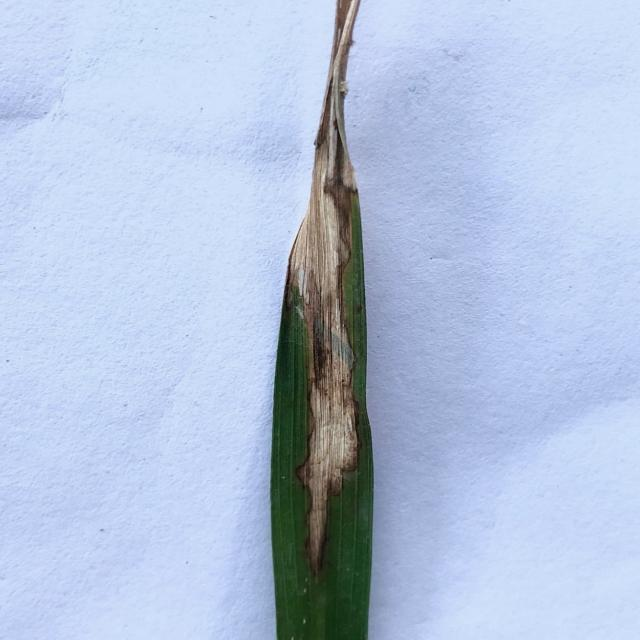leaf blight: (286, 0, 378, 571)
